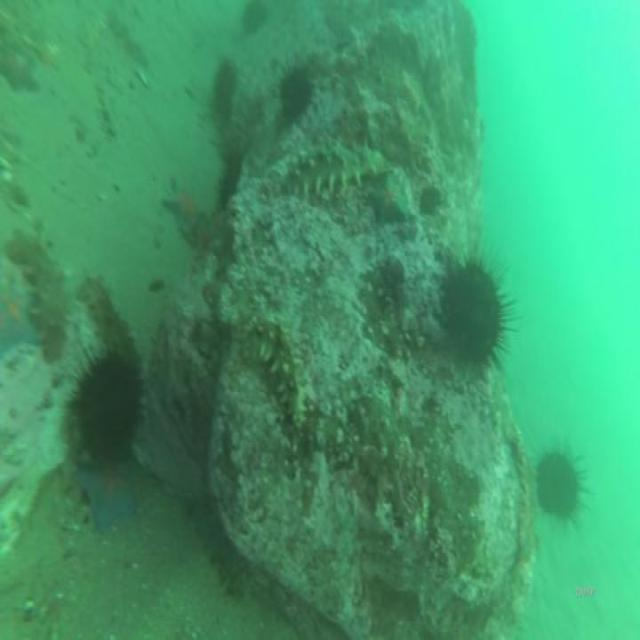echinus: (75, 359, 141, 460), (447, 261, 504, 370), (538, 450, 580, 523), (279, 71, 312, 114), (214, 66, 234, 108), (245, 3, 264, 35)
holothurian: (8, 240, 68, 359), (249, 319, 311, 430), (287, 138, 377, 190), (77, 278, 132, 357), (374, 267, 406, 356), (513, 431, 535, 555)
starfish: (79, 474, 137, 531), (3, 283, 31, 360), (372, 176, 410, 220), (165, 185, 198, 229)
